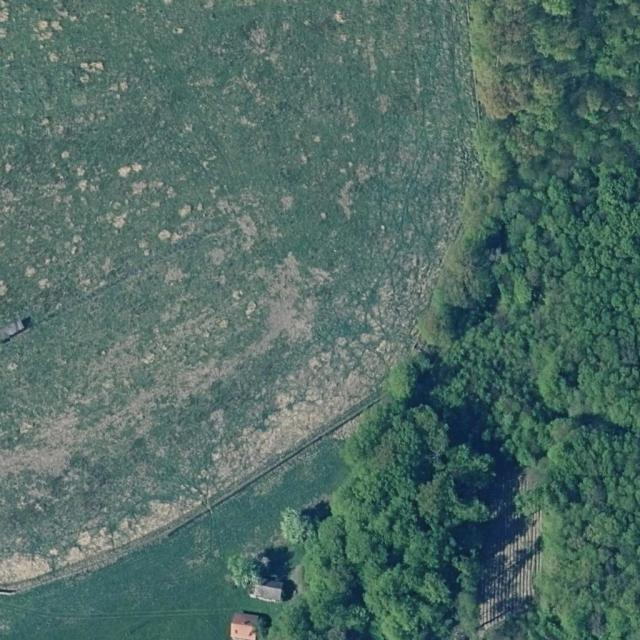agricultural_land: (0, 428, 405, 640), (475, 473, 548, 633)
building: (248, 581, 285, 604)
